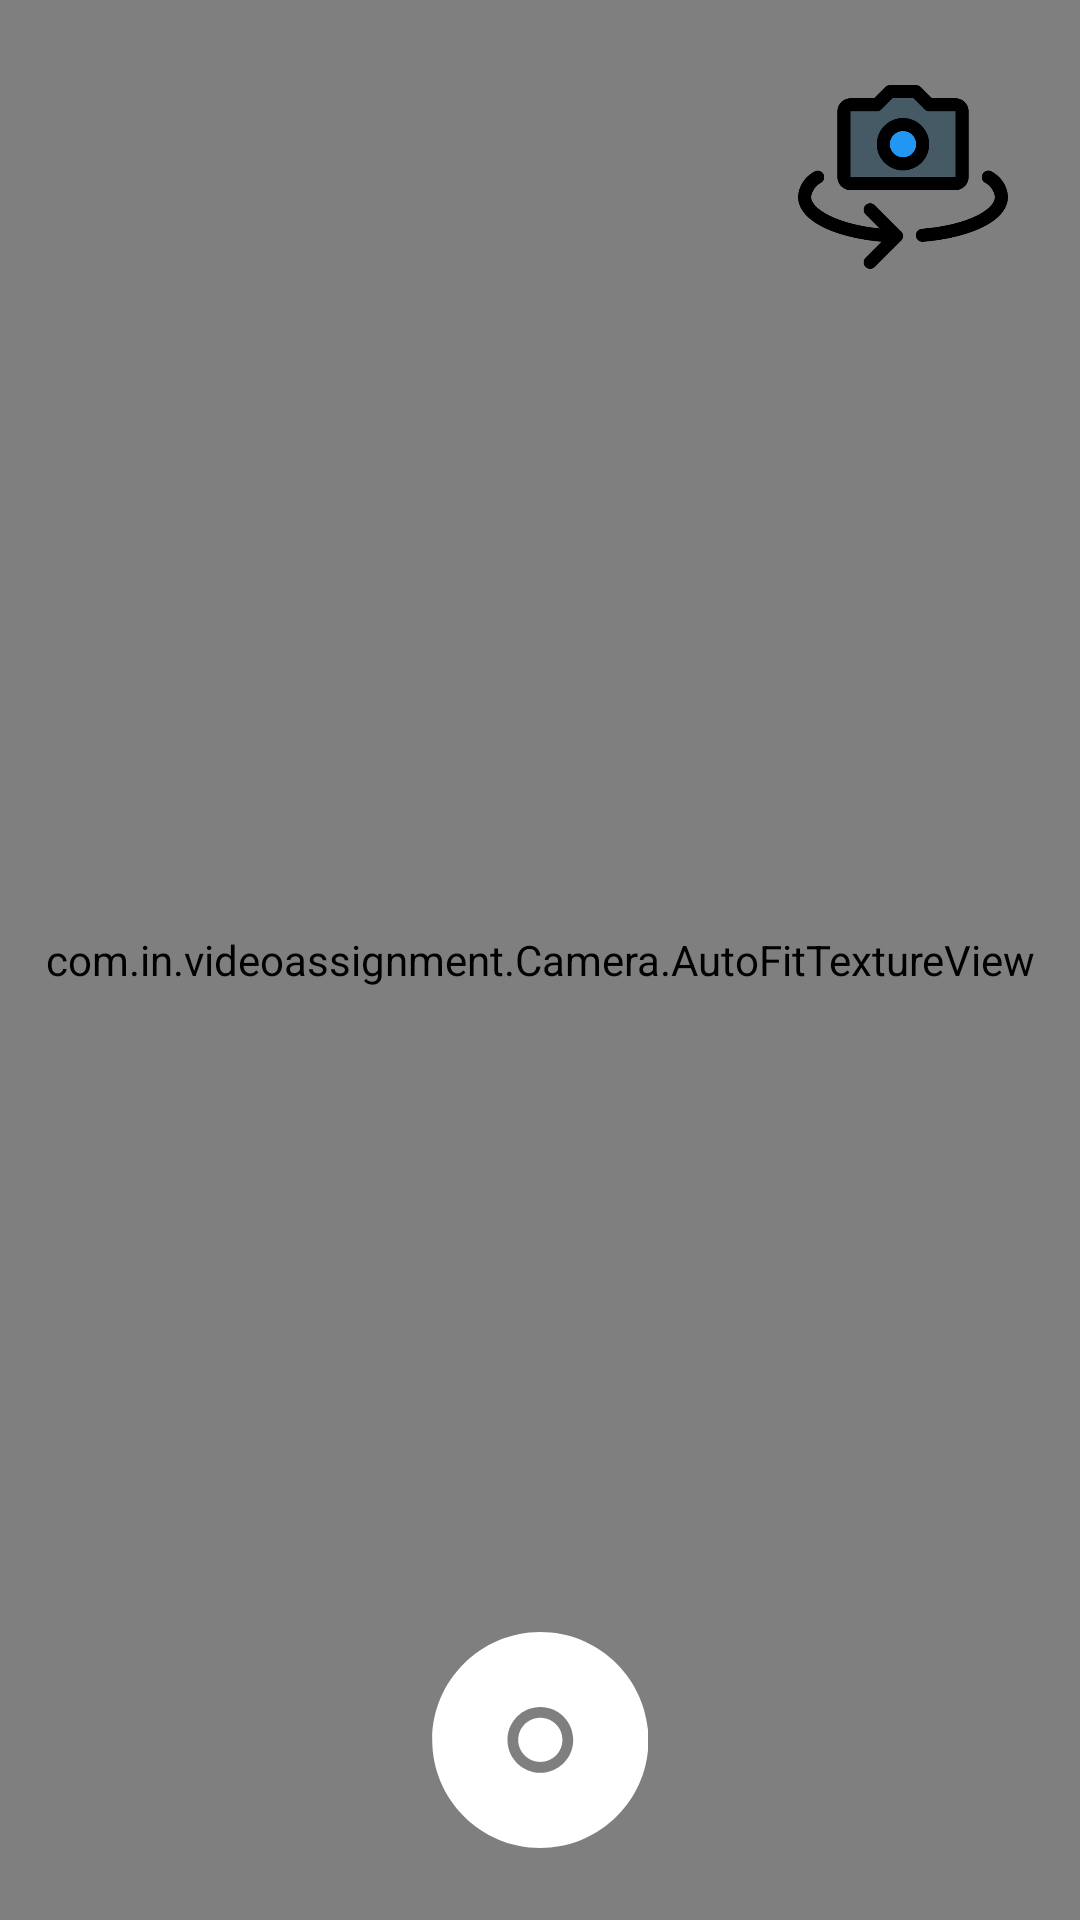

Screen size 1080x1920. Icon name, then its box in pixels as {"x1": x1, "y1": y1, "x2": x2, "y2": y2}:
record: {"x1": 432, "y1": 1632, "x2": 648, "y2": 1848}
switch camera: {"x1": 798, "y1": 85, "x2": 1008, "y2": 269}
